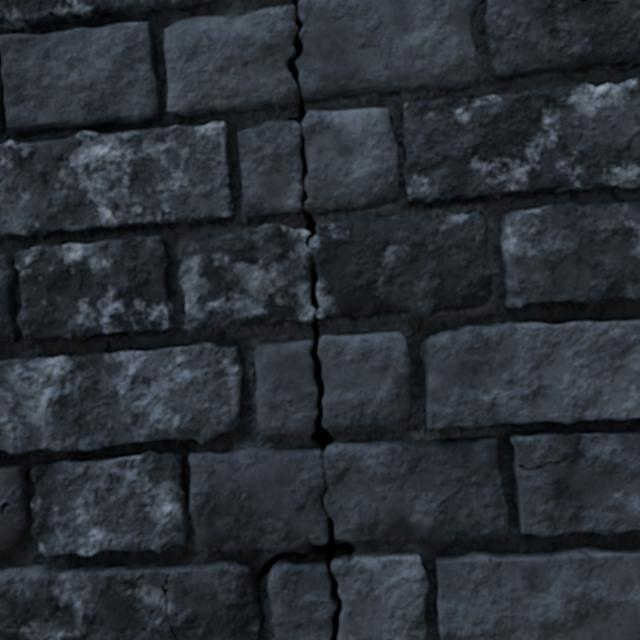broken_brick: (178, 209, 492, 331), (188, 436, 508, 551), (296, 0, 479, 100), (164, 5, 299, 116), (302, 108, 398, 213), (318, 331, 410, 428), (331, 552, 428, 639), (237, 121, 303, 218), (254, 338, 317, 435), (267, 558, 334, 639)
crack: (0, 498, 355, 639), (401, 78, 639, 203), (0, 121, 234, 238), (0, 342, 242, 453), (420, 318, 639, 429), (0, 449, 189, 556), (436, 546, 639, 639), (0, 22, 162, 136), (0, 236, 172, 342), (500, 199, 639, 307), (507, 430, 639, 536), (485, 0, 639, 79), (285, 0, 316, 248), (0, 0, 213, 30), (309, 318, 334, 455), (306, 253, 319, 311), (342, 83, 369, 86), (401, 78, 424, 80), (275, 624, 276, 639)
